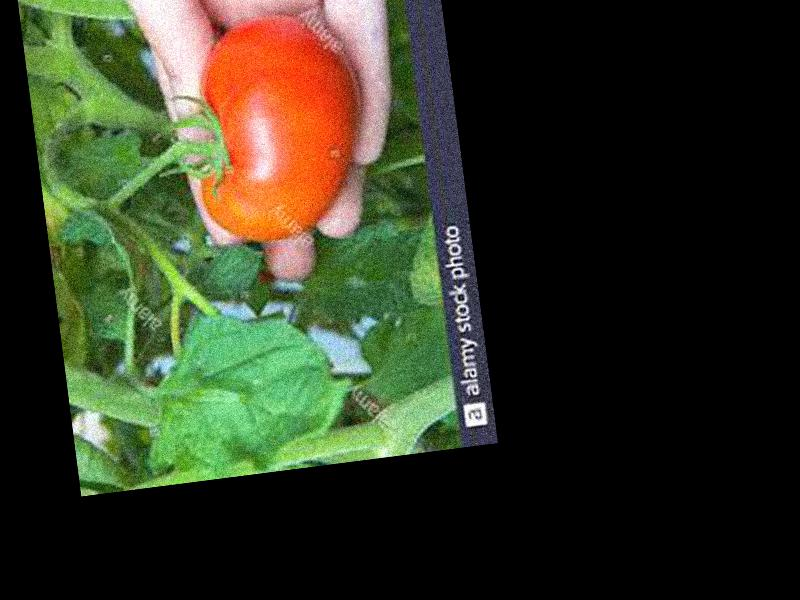Tomato: (180, 4, 370, 248)
